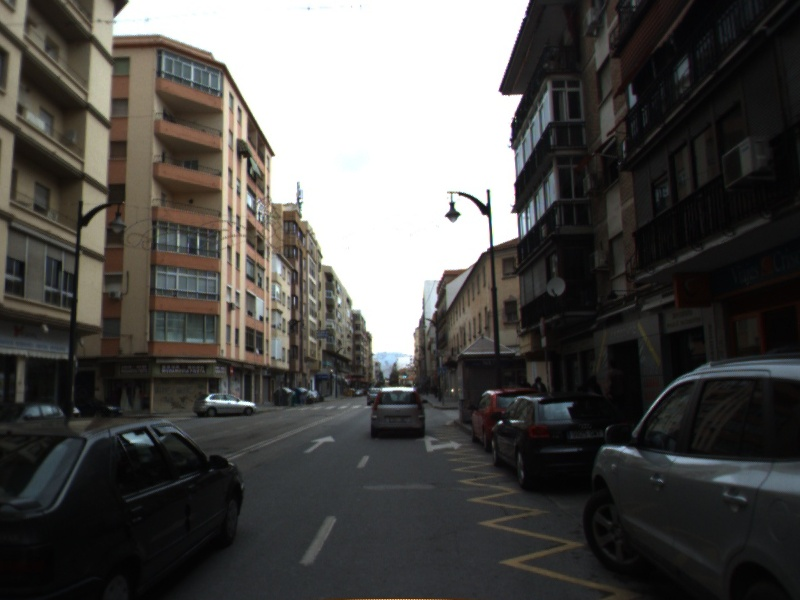STRAIGHT: (301, 433, 337, 455)
STRAIGHT_RIGHT: (415, 434, 464, 454)
